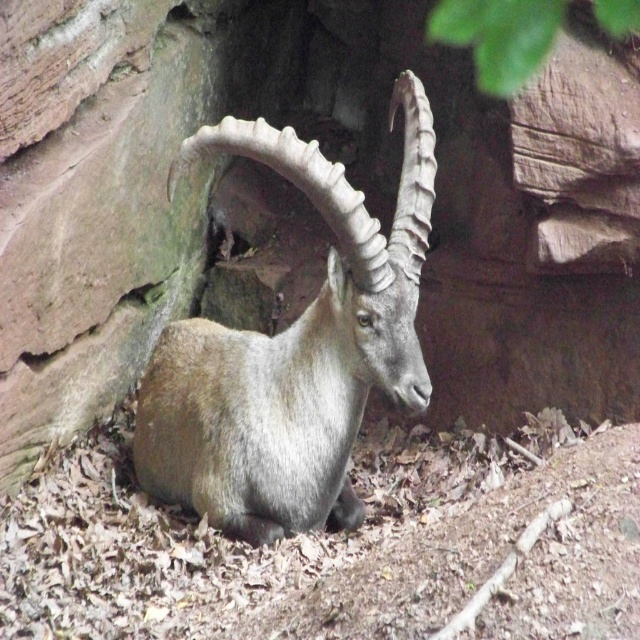Goat: (130, 68, 437, 546)
